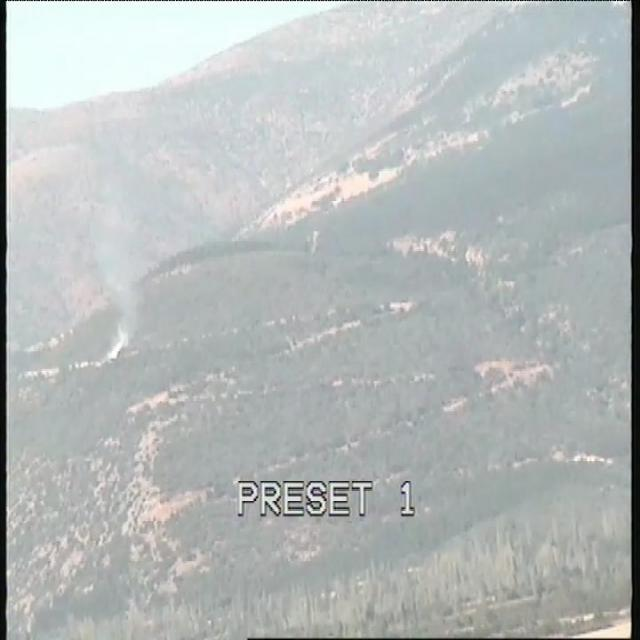smoke: (106, 314, 134, 365)
